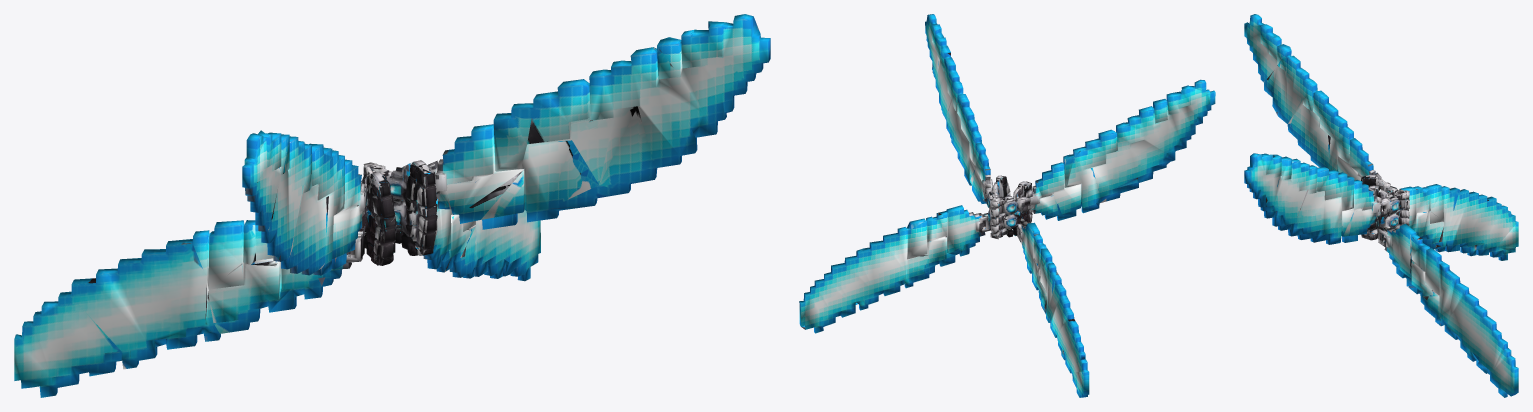
File: numbers4_wings.obj
The picture shows the model from 3 angles, left to right: view 1: azimuth 30°, elevation 25°; view 2: azimuth 150°, elevation 25°; view 3: azimuth 270°, elevation 25°; orthographic projection. The views are drawn at different scales.
Parts seen in each view (by area): view 1: numbers4_wings; view 2: numbers4_wings; view 3: numbers4_wings.
Boxes of the visible parts, x1,y1,x2,y2 form: numbers4_wings: [14, 14, 770, 397]; numbers4_wings: [799, 14, 1215, 397]; numbers4_wings: [1244, 14, 1518, 397].
Size of the model in its own units: 1.58 by 1.2 by 1.22.
